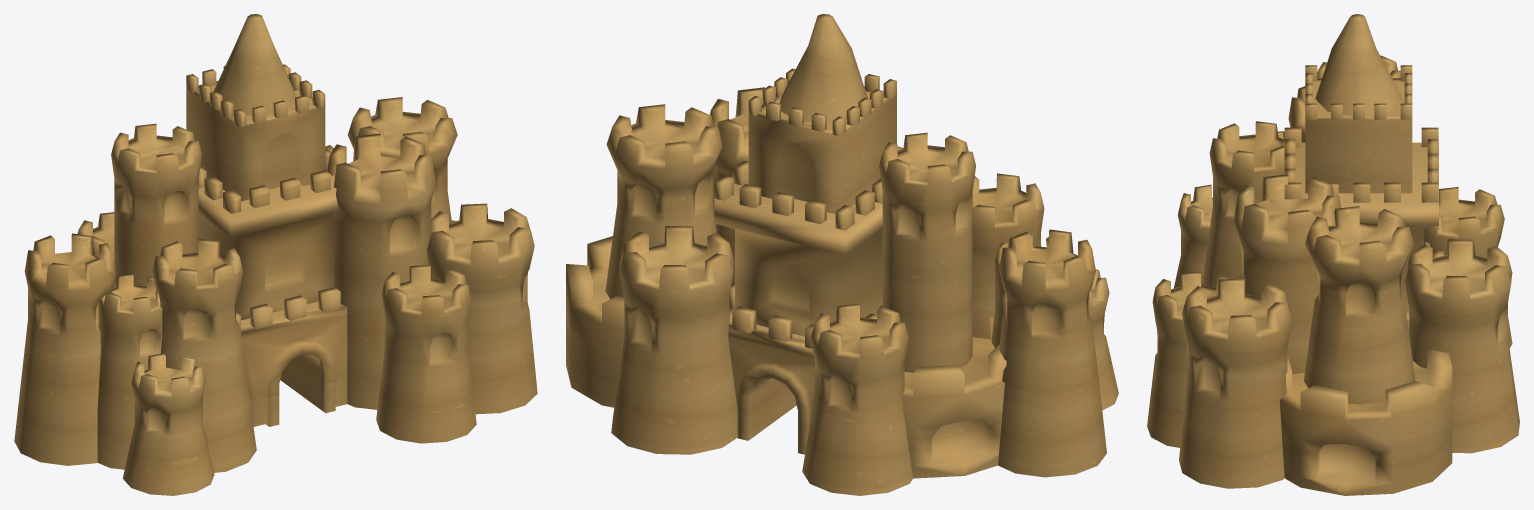
The model's file is Sand_Castle_Big.fbx.
3 renders of one model, left to right at view 1: azimuth 30°, elevation 25°; view 2: azimuth 150°, elevation 25°; view 3: azimuth 270°, elevation 25°, orthographic. The views are drawn at different scales.
Parts seen in each view (by area): view 1: sandcastle_large; view 2: sandcastle_large; view 3: sandcastle_large.
Part boxes in pixels (x1,y1,x2,y2): sandcastle_large: [14, 14, 537, 495]; sandcastle_large: [566, 14, 1118, 495]; sandcastle_large: [1147, 14, 1519, 495].
Bounding box in the file's own units: 2.33 × 1.73 × 1.59.
